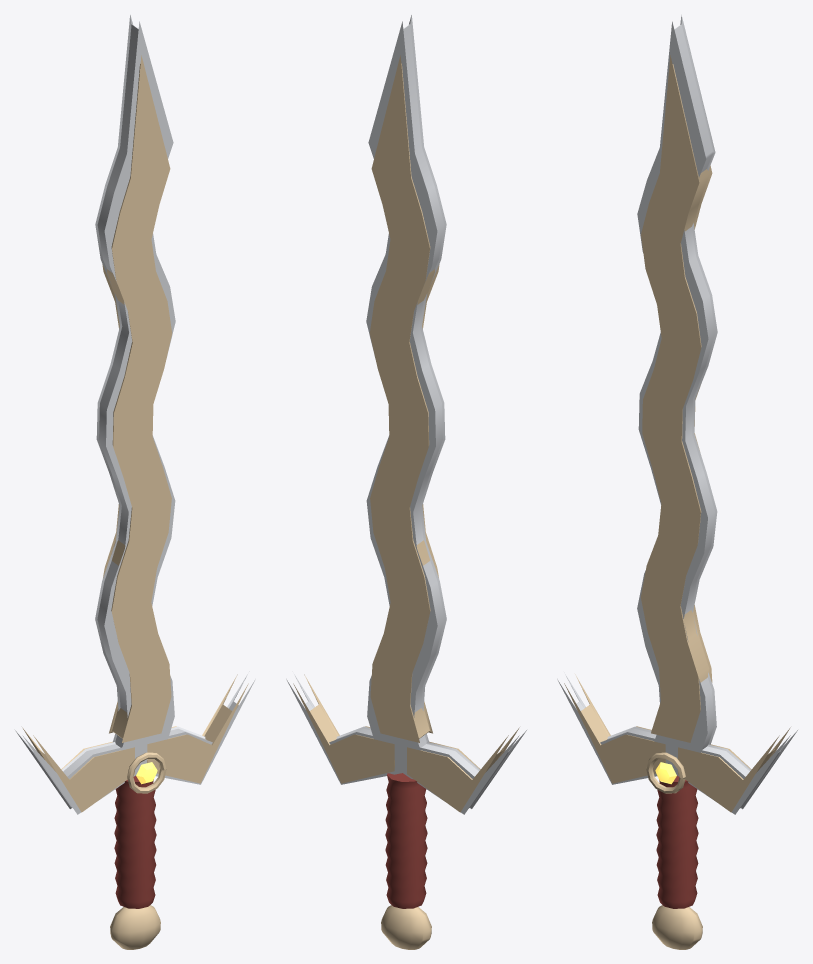
Rendered from artisan_flame_ribbon_sword.glb.
The picture shows the model from 3 angles, left to right: view 1: azimuth 30°, elevation 25°; view 2: azimuth 150°, elevation 25°; view 3: azimuth 330°, elevation 25°; orthographic projection.
Visible parts, largest first — view 1: artisan_flame_ribbon_sword; view 2: artisan_flame_ribbon_sword; view 3: artisan_flame_ribbon_sword.
Part boxes in pixels (left/top/right/bottom): artisan_flame_ribbon_sword: left=15, top=15, right=255, bottom=949; artisan_flame_ribbon_sword: left=286, top=15, right=526, bottom=949; artisan_flame_ribbon_sword: left=557, top=14, right=797, bottom=949.
Bounding box in the file's own units: 0.3238 × 1.22 × 0.0606.
